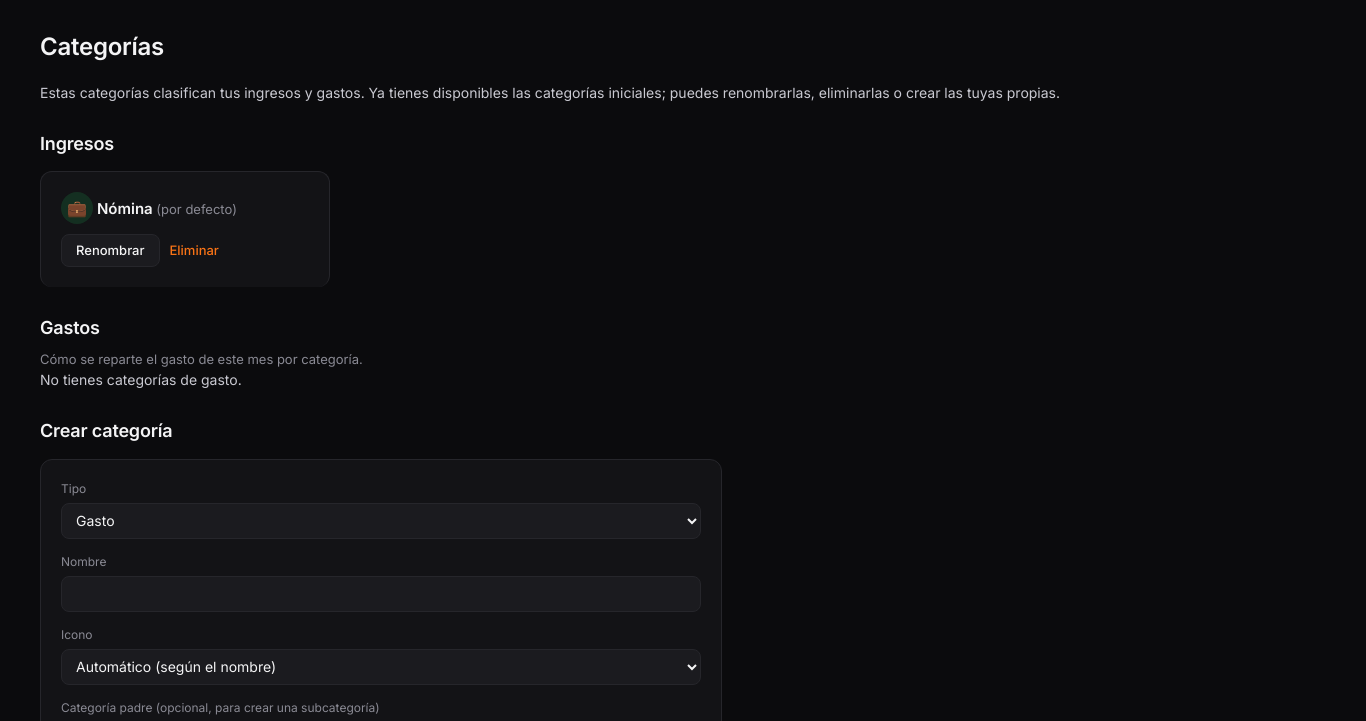
CategoriesPage › si el borrado falla por estar en uso (409), muestra el error del backend
Check: the text "Nómina" is shown, box [97,198,153,218]
What coordinates should you click on to do the following:
click the button "Eliminar"
I would click on:
 (194, 250)
Its box is [164,234,225,267].
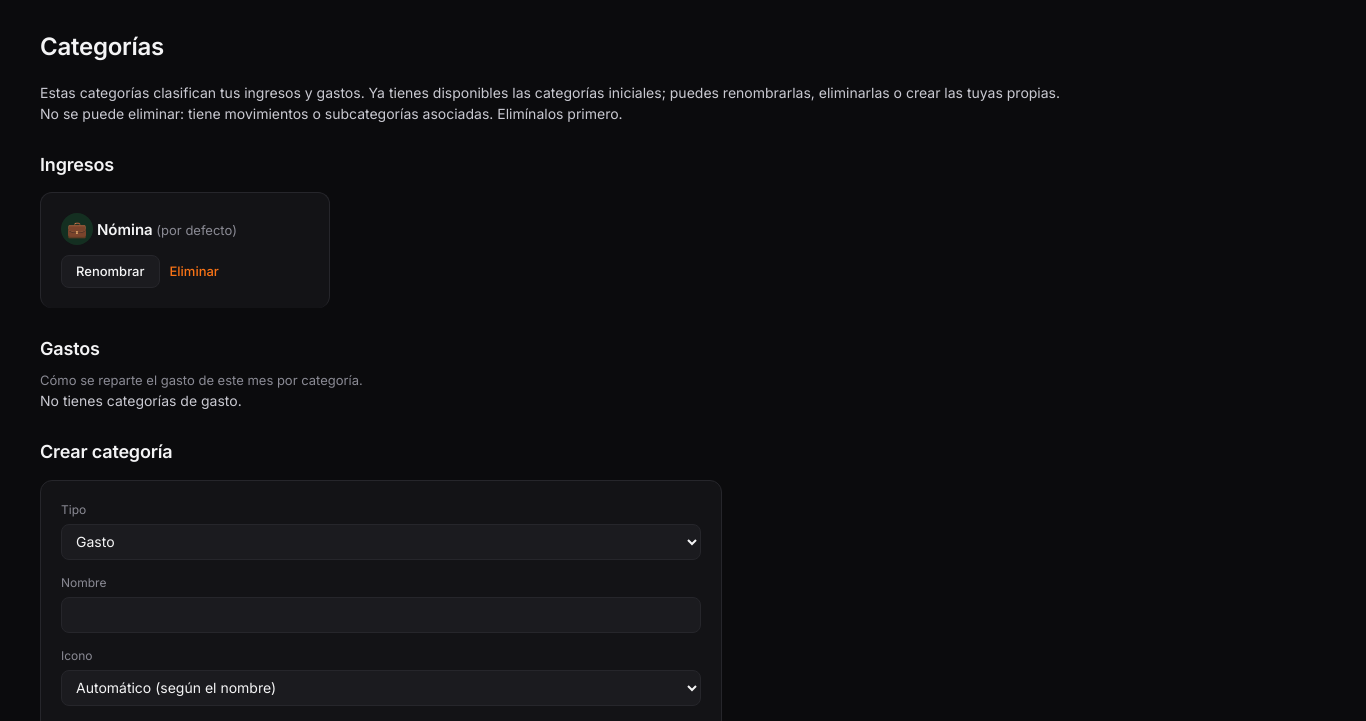
Check: the text "Nómina" is shown, box [97,220,153,238]
Check: the message shows "tiene movimientos o subcategorías asociadas", box [40,105,623,122]
